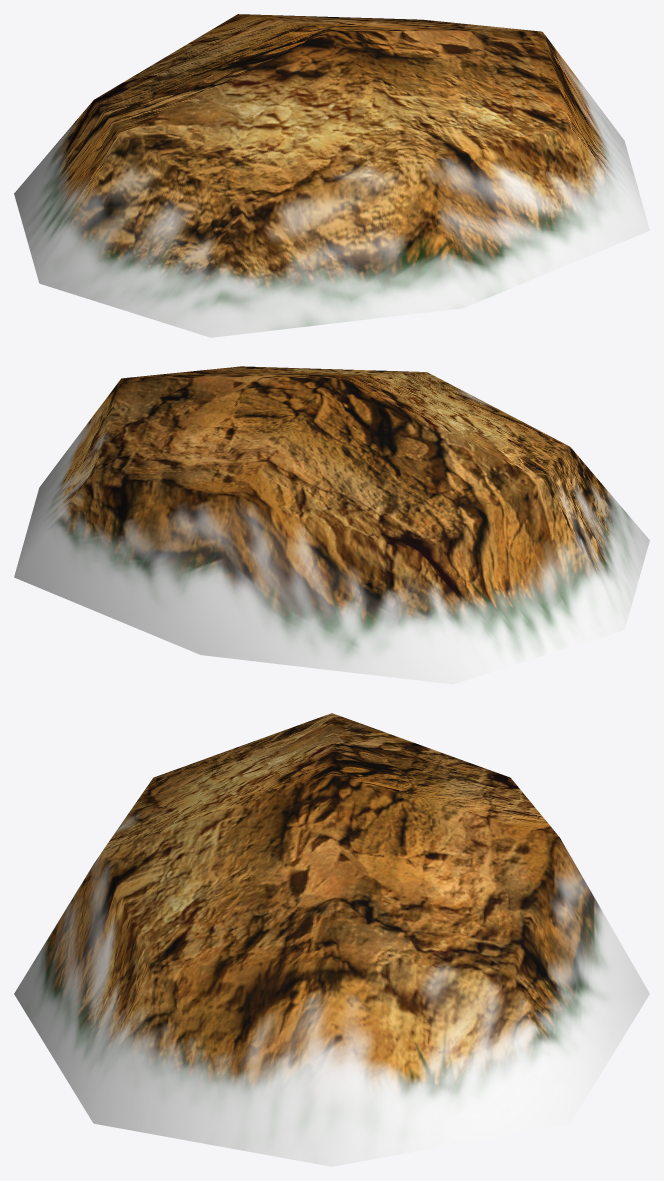
Rendered from Rock01.FBX.
The picture shows the model from 3 angles, top to bottom: view 1: azimuth 30°, elevation 25°; view 2: azimuth 150°, elevation 25°; view 3: azimuth 270°, elevation 25°; orthographic projection. The views are drawn at different scales.
Parts seen in each view (by area): view 1: Box01; view 2: Box01; view 3: Box01.
Boxes of the visible parts, left/top/right/bottom form: Box01: left=14, top=14, right=649, bottom=337; Box01: left=14, top=366, right=649, bottom=684; Box01: left=14, top=713, right=649, bottom=1166.
Bounding box in the file's own units: 69.76 × 20.6 × 54.22.
1 material, 1 textured.
